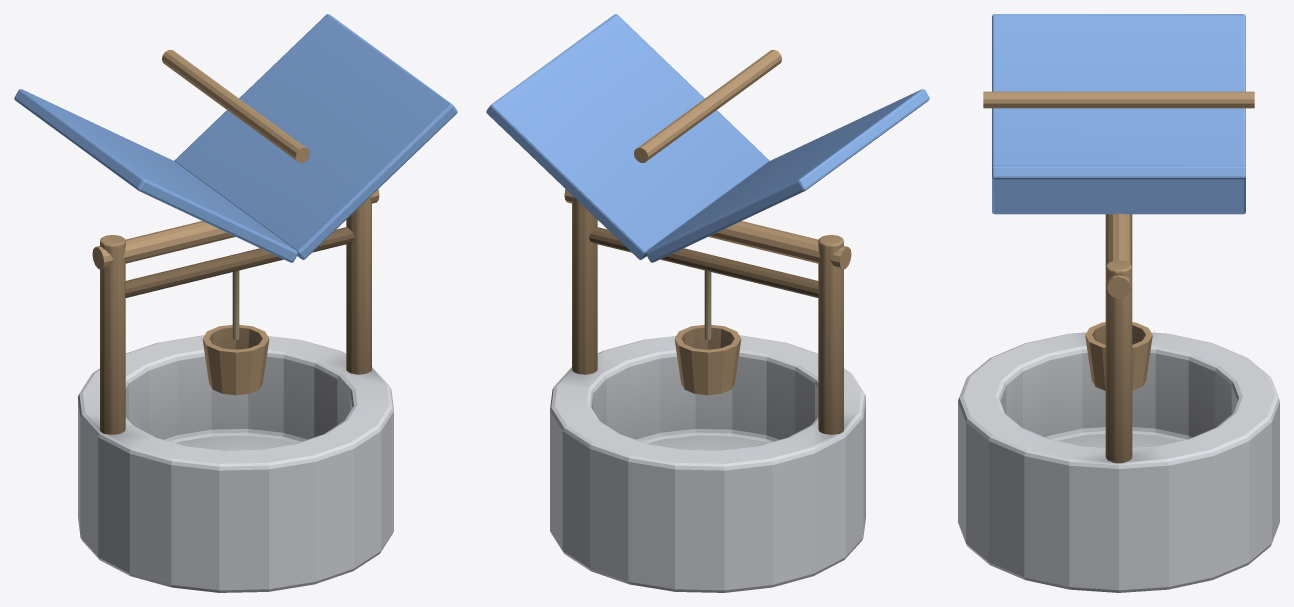
Rendered from villageWell.glb.
3 renders of one model, left to right at view 1: azimuth 30°, elevation 25°; view 2: azimuth 150°, elevation 25°; view 3: azimuth 270°, elevation 25°, orthographic.
Parts seen in each view (by area): view 1: VillageWell; view 2: VillageWell; view 3: VillageWell.
Part boxes in pixels (bbox=[...]): VillageWell: bbox=[14, 14, 457, 592]; VillageWell: bbox=[486, 14, 929, 592]; VillageWell: bbox=[958, 14, 1279, 592].
Bounding box in the file's own units: 2.21 × 2.84 × 1.9.
